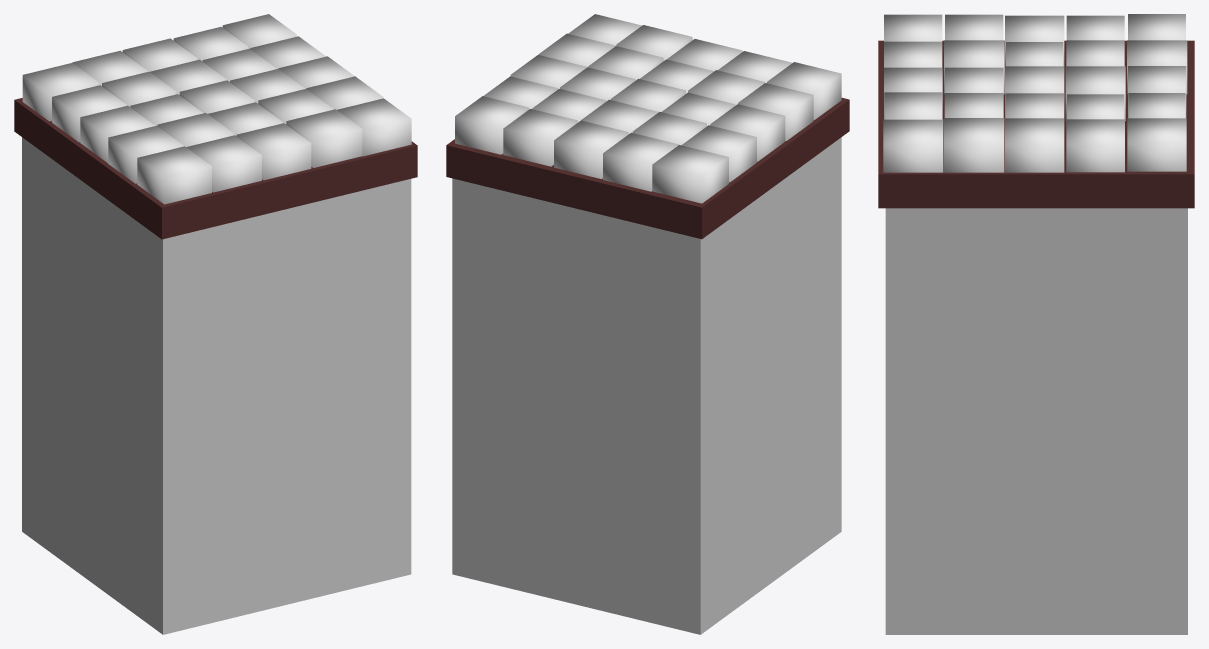
The model's file is culuster_stone.fbx.
3 renders of one model, left to right at view 1: azimuth 30°, elevation 25°; view 2: azimuth 150°, elevation 25°; view 3: azimuth 270°, elevation 25°, orthographic. The views are drawn at different scales.
Parts seen in each view (by area): view 1: stone_anaCuluster, alt.003, stoneBlock.004, stoneBlock.001, stoneBlock.002, stoneBlock.000, stoneBlock.003, stoneBlock.024, stoneBlock.009, stoneBlock.019, stoneBlock.014, stoneBlock.018 (+15 smaller); view 2: stone_anaCuluster, alt.003, stoneBlock.024, stoneBlock.023, stoneBlock.021, stoneBlock.022, stoneBlock.020, stoneBlock.009, stoneBlock.004, stoneBlock.014, stoneBlock.019, stoneBlock.001 (+15 smaller); view 3: stone_anaCuluster, alt.003, stoneBlock.005, stoneBlock.010, stoneBlock.000, stoneBlock.020, stoneBlock.015, stoneBlock.017, stoneBlock.008, stoneBlock.012, stoneBlock.014, stoneBlock.023 (+15 smaller).
Boxes of the visible parts, x1,y1,x2,y2 form: stone_anaCuluster: (22,137,411,634); alt.003: (14,98,417,239); stoneBlock.004: (137,146,211,204); stoneBlock.001: (286,109,362,167); stoneBlock.002: (236,123,311,180); stoneBlock.000: (337,98,411,156); stoneBlock.003: (186,135,261,192); stoneBlock.024: (22,63,99,121); stoneBlock.009: (108,125,183,183); stoneBlock.019: (52,85,127,142); stoneBlock.014: (80,105,155,162); stoneBlock.018: (102,71,176,106); stone_anaCuluster: (452,137,841,634); alt.003: (446,97,849,239); stoneBlock.024: (652,145,728,203); stoneBlock.023: (603,132,679,191); stoneBlock.021: (503,109,577,166); stoneBlock.022: (554,120,628,178); stoneBlock.020: (455,96,528,154); stoneBlock.009: (738,83,813,140); stoneBlock.004: (767,62,841,119); stoneBlock.014: (710,104,785,161); stoneBlock.019: (682,125,756,182); stoneBlock.001: (616,25,692,60); stone_anaCuluster: (885,208,1187,634); alt.003: (878,40,1194,208); stoneBlock.005: (944,118,1004,172); stoneBlock.010: (1005,118,1064,172); stoneBlock.000: (883,119,943,172); stoneBlock.020: (1127,118,1186,171); stoneBlock.015: (1066,119,1124,172); stoneBlock.017: (1065,66,1125,120); stoneBlock.008: (944,40,1004,94); stoneBlock.012: (1005,66,1064,117); stoneBlock.014: (1005,15,1064,66); stoneBlock.023: (1127,40,1187,94).
Size of the model in its own units: 200 by 342 by 200.
